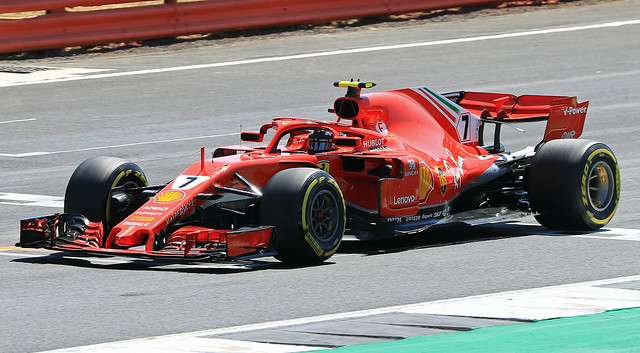F1 Car: (12, 73, 623, 270)
